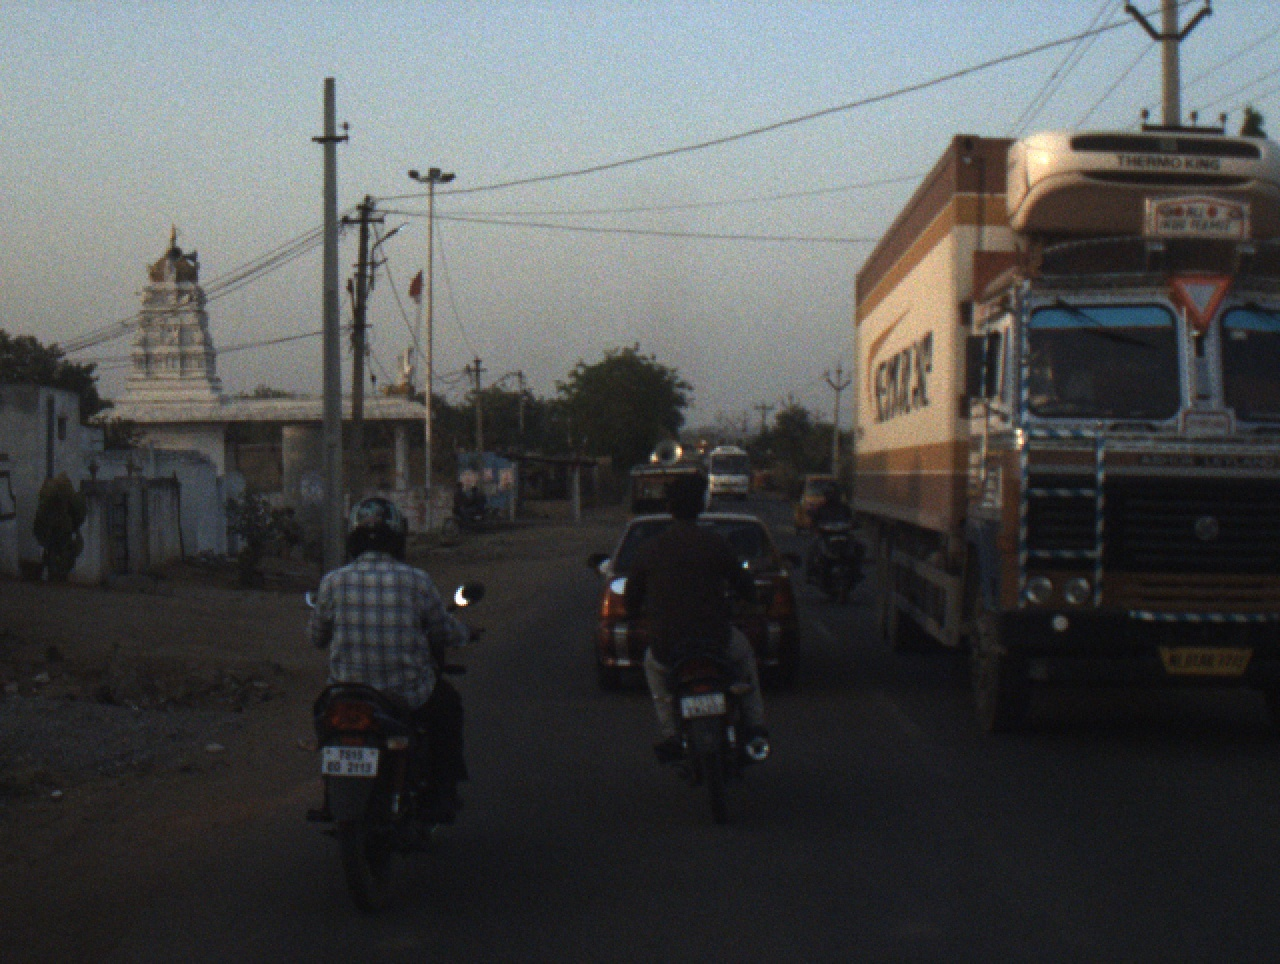autorickshaw: (789, 472, 853, 538), (754, 457, 782, 494)
bus: (707, 444, 752, 502)
car: (585, 511, 802, 705), (626, 444, 712, 516)
motorcycle: (303, 569, 484, 916), (608, 547, 770, 827), (800, 508, 865, 607), (441, 504, 500, 539)
person: (452, 478, 469, 515)
rider: (309, 494, 470, 824), (621, 464, 775, 737), (797, 480, 870, 584), (461, 484, 486, 529)
truck: (859, 135, 1280, 733), (692, 434, 726, 462)
